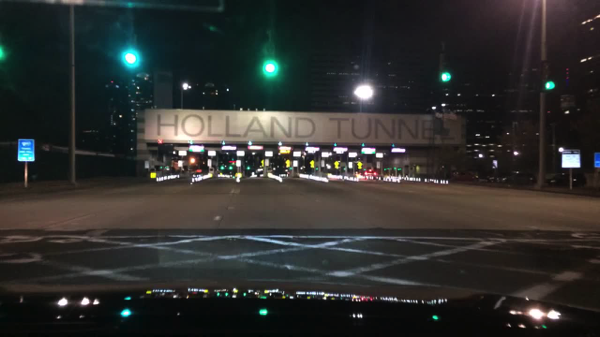car: (547, 172, 586, 188), (504, 174, 535, 186), (450, 171, 479, 182), (487, 174, 506, 183), (365, 169, 377, 181), (191, 171, 202, 178)
traffic light: (123, 35, 141, 69), (539, 59, 556, 92), (263, 45, 279, 79), (438, 52, 452, 85), (0, 40, 8, 66)
traffic sign: (17, 138, 36, 163), (561, 149, 580, 169), (593, 152, 599, 168), (308, 159, 314, 170), (333, 160, 338, 170), (284, 160, 289, 169), (357, 162, 362, 170), (260, 159, 264, 168)
